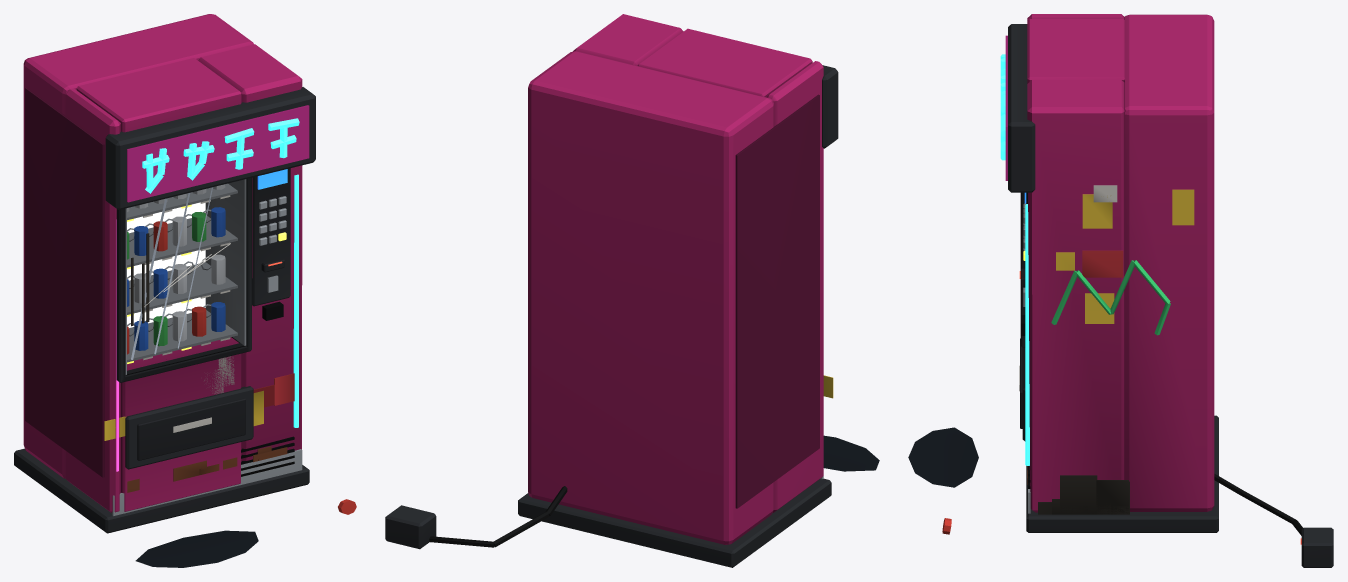
The model's file is cp_vending.glb.
3 views of the same model, side by side, from view 1: azimuth 30°, elevation 25°; view 2: azimuth 150°, elevation 25°; view 3: azimuth 270°, elevation 25° (orthographic). The views are drawn at different scales.
Visible parts, largest first — view 1: cp_vending, part_flap; view 2: cp_vending; view 3: cp_vending.
Boxes of the visible parts, box(x1,y1,x2,y2) form: cp_vending: box(14, 14, 356, 567); part_flap: box(137, 398, 245, 460); cp_vending: box(385, 14, 879, 567); cp_vending: box(908, 14, 1333, 567).
Size of the model in its own units: 1.45 by 2.03 by 1.85.
